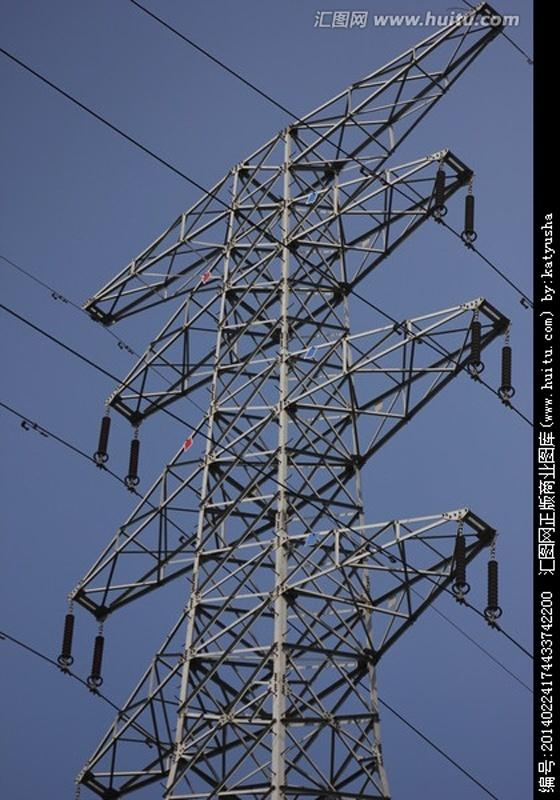power_tower: (35, 46, 489, 682)
